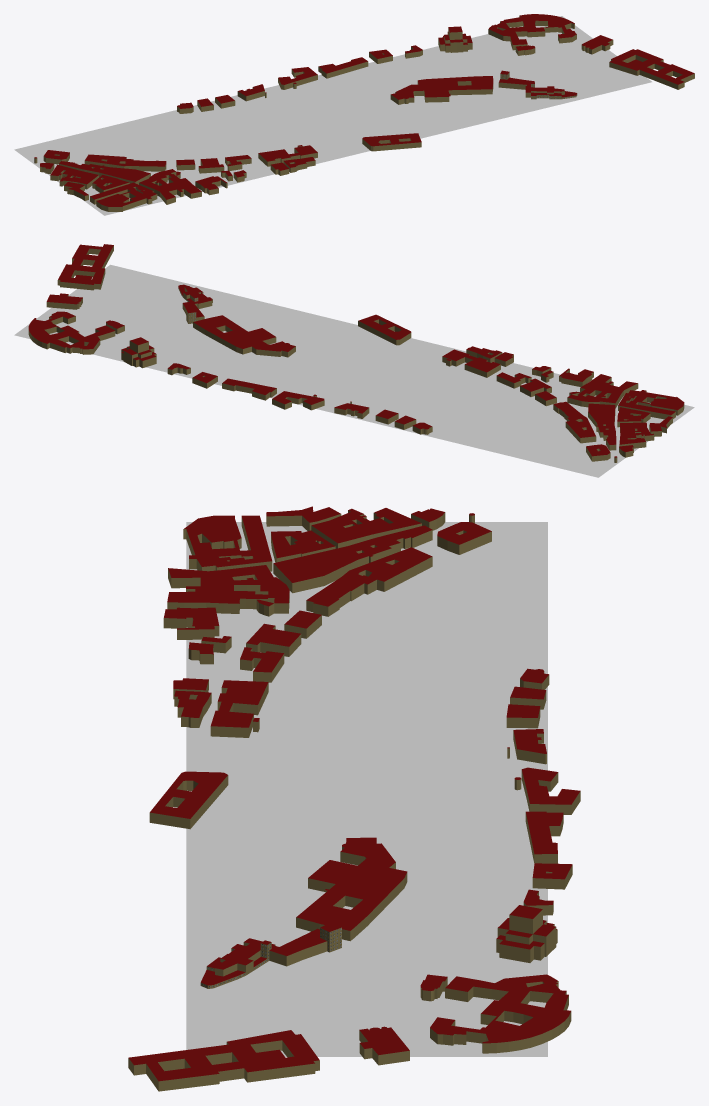
The model's file is test4_buildings.obj.
The picture shows the model from 3 angles, top to bottom: view 1: azimuth 30°, elevation 25°; view 2: azimuth 150°, elevation 25°; view 3: azimuth 270°, elevation 25°; orthographic projection. The views are drawn at different scales.
Visible parts, largest first — view 1: SurfaceArea123, SurfaceArea124, SurfaceArea122, Building Fatebenefratelli, Building Palazzo dellAnagrafe, Building Palazzo Orsini, Building1, Building53, Building3, Building Teatro di Marcello, Building5, Building Chiesa di San Nicola in Carcere (+4 smaller); view 2: SurfaceArea123, SurfaceArea122, SurfaceArea124, Building Fatebenefratelli, Building Palazzo dellAnagrafe, Building Palazzo Orsini, Building1, Building53, Building3, Building Teatro di Marcello, Building5, Building Chiesa di San Nicola in Carcere (+3 smaller); view 3: SurfaceArea123, SurfaceArea122, SurfaceArea124, Building Palazzo dellAnagrafe, Building Fatebenefratelli, Building Palazzo Orsini, Building1, Building53, Building Teatro di Marcello, Building5, Building3, Building108 (+10 smaller).
Part boxes in pixels (x1,y1,x2,y2): SurfaceArea123: [211, 54, 495, 163]; SurfaceArea124: [411, 16, 651, 120]; SurfaceArea122: [14, 105, 275, 215]; Building Fatebenefratelli: [390, 76, 493, 104]; Building Palazzo dellAnagrafe: [609, 49, 694, 89]; Building Palazzo Orsini: [497, 17, 576, 43]; Building1: [362, 133, 421, 151]; Building53: [258, 145, 317, 166]; Building3: [318, 57, 368, 78]; Building Teatro di Marcello: [519, 14, 574, 29]; Building5: [84, 154, 126, 168]; Building Chiesa di San Nicola in Carcere: [581, 35, 613, 54]; SurfaceArea123: [181, 305, 466, 426]; SurfaceArea122: [390, 363, 694, 477]; SurfaceArea124: [14, 264, 276, 375]; Building Fatebenefratelli: [195, 315, 295, 357]; Building Palazzo dellAnagrafe: [57, 244, 113, 290]; Building Palazzo Orsini: [45, 311, 95, 353]; Building1: [358, 314, 411, 345]; Building53: [442, 349, 500, 377]; Building3: [222, 378, 276, 400]; Building Teatro di Marcello: [28, 318, 55, 349]; Building5: [565, 418, 596, 443]; Building Chiesa di San Nicola in Carcere: [46, 293, 82, 309]; SurfaceArea123: [186, 713, 547, 904]; SurfaceArea122: [186, 522, 547, 712]; SurfaceArea124: [186, 904, 547, 1056]; Building Palazzo dellAnagrafe: [128, 1030, 319, 1091]; Building Fatebenefratelli: [296, 837, 407, 938]; Building Palazzo Orsini: [430, 983, 568, 1045]; Building1: [149, 771, 228, 829]; Building53: [210, 680, 268, 737]; Building Teatro di Marcello: [482, 1008, 571, 1053]; Building5: [349, 547, 432, 591]; Building3: [525, 811, 563, 863]; Building108: [163, 607, 219, 639].
Size of the model in its own units: 903 by 26 by 300.
